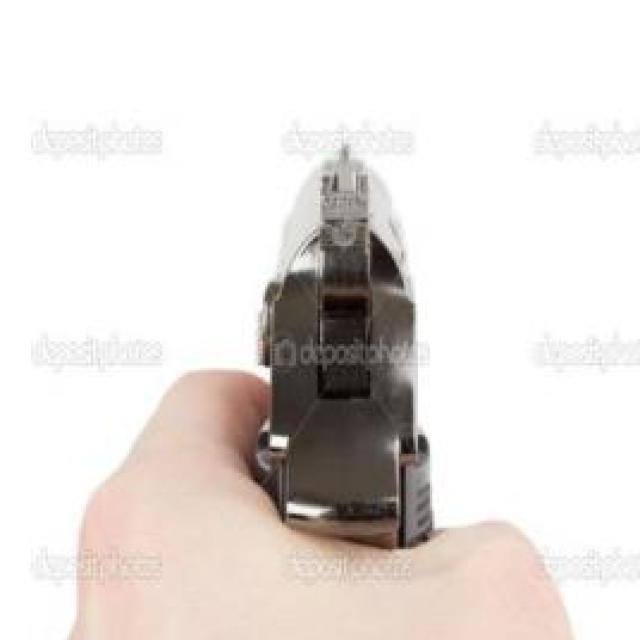pistol: (255, 138, 455, 582)
